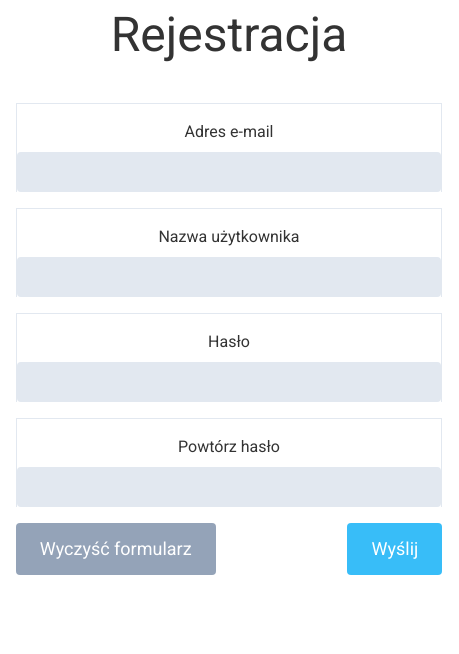
Test case: Register › should display error when username is already in use
The width and height of the screenshot is (459, 654).
In the field labelled "Adres e-mail": [229, 172] box [17,152,441,192], type "test@email"
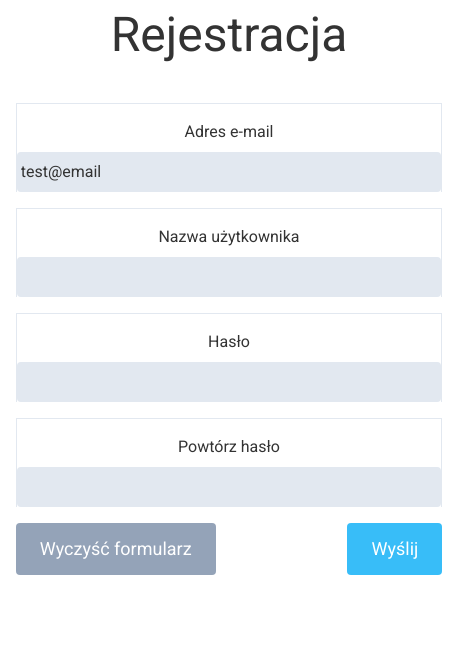
In the field labelled "Nazwa użytkownika": [229, 277] box [17,257,441,297], type "username"
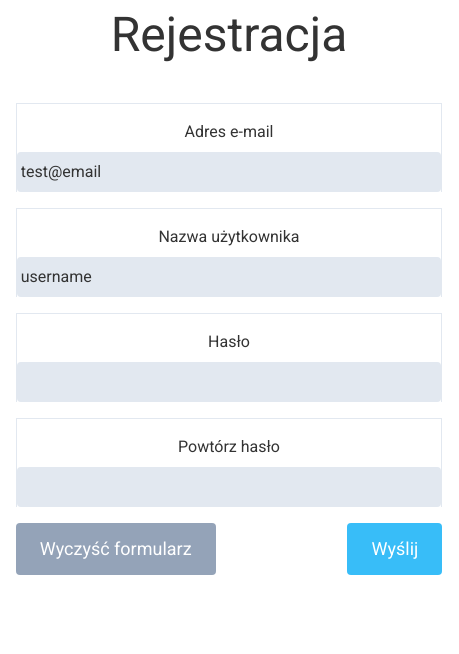
In the password field labelled "Hasło": [229, 382] box [17,362,441,402], type "password"
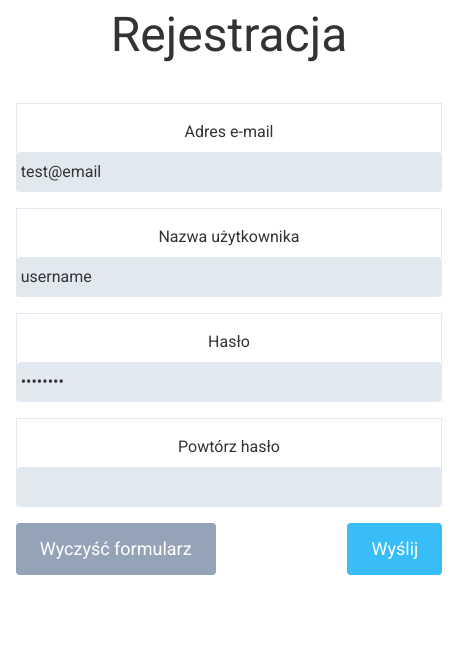
In the password field labelled "Powtórz hasło": [229, 487] box [17,467,441,507], type "password"
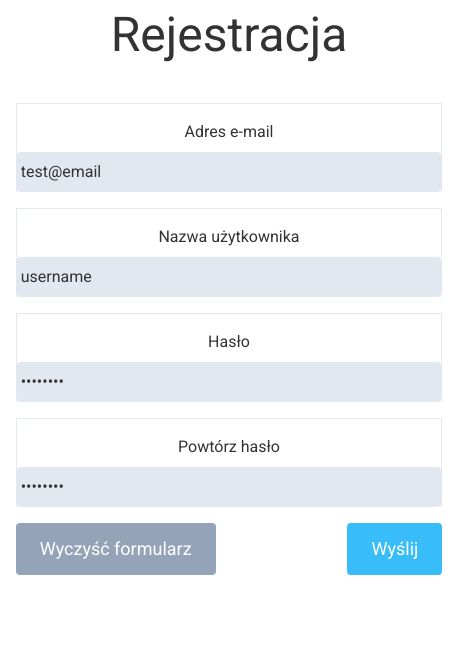
Click the button "Wyślij": [395, 549] box [348,523,442,575]
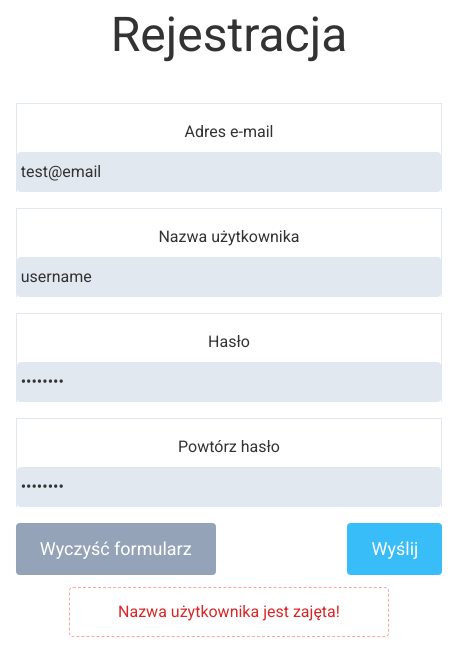
expect the text "Nazwa użytkownika jest zajęta!" is shown: met, box [69,587,389,637]
